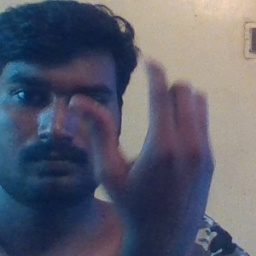U: (72, 53, 217, 221)
